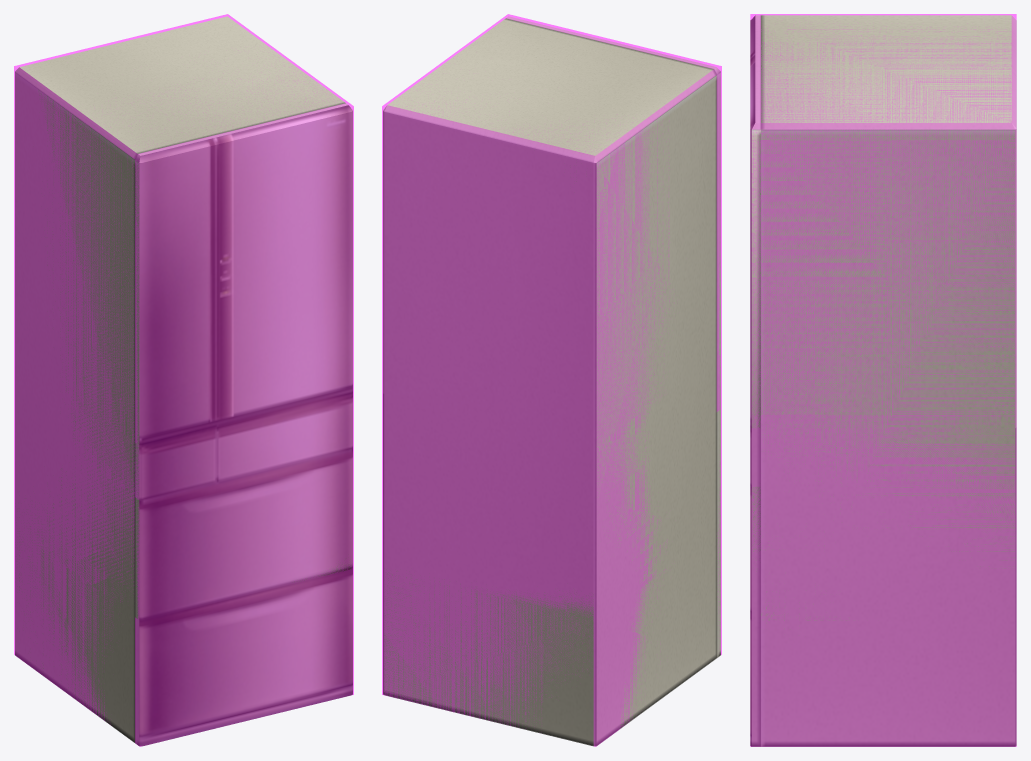
File: fridge_B.fbx
3 renders of one model, left to right at view 1: azimuth 30°, elevation 25°; view 2: azimuth 150°, elevation 25°; view 3: azimuth 270°, elevation 25°, orthographic. The views are drawn at different scales.
Visible parts, largest first — view 1: fridge_B_boundingBox, hontai, top_R, bottom_2, bottom_1, top_L, center_R, center_L; view 2: hontai, fridge_B_boundingBox, top_L, bottom_2, bottom_1; view 3: hontai, fridge_B_boundingBox, top_R, bottom_2, bottom_1, center_R.
Boxes of the visible parts, x1,y1,x2,y2 form: fridge_B_boundingBox: (14,14,353,746); hontai: (15,16,345,742); top_R: (213,103,352,426); bottom_2: (135,568,352,746); bottom_1: (135,448,352,620); top_L: (135,135,217,445); center_R: (218,393,352,481); center_L: (135,427,217,500); hontai: (383,18,716,746); fridge_B_boundingBox: (382,14,721,746); top_L: (639,49,720,356); bottom_2: (716,529,720,657); bottom_1: (716,409,720,531); hontai: (761,15,1016,746); fridge_B_boundingBox: (750,14,1016,746); top_R: (750,54,760,428); bottom_2: (750,613,760,746); bottom_1: (750,486,760,613); center_R: (750,427,760,486).
Bounding box in the file's own units: 68.5 × 180 × 69.9.
5 materials, 2 textured.
